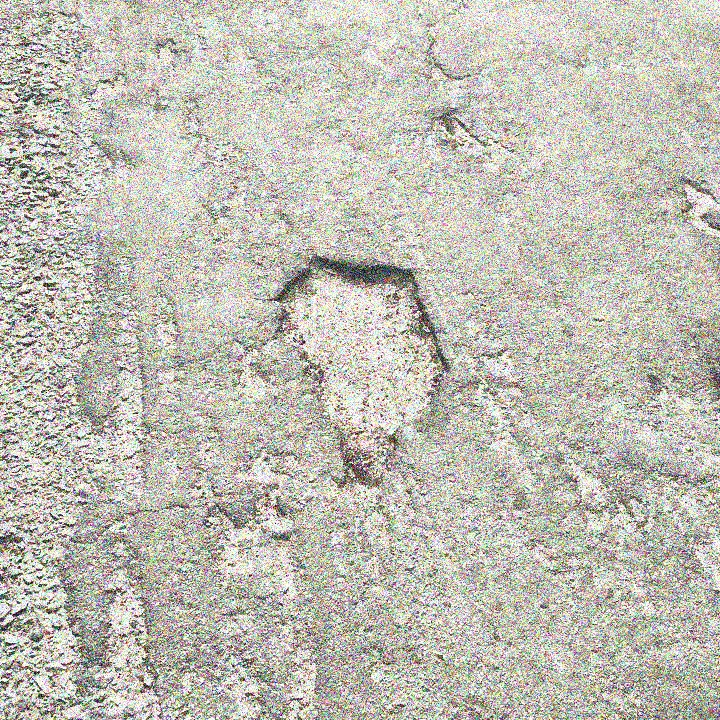pothole: (265, 251, 455, 482), (677, 178, 720, 239), (440, 111, 488, 156)
